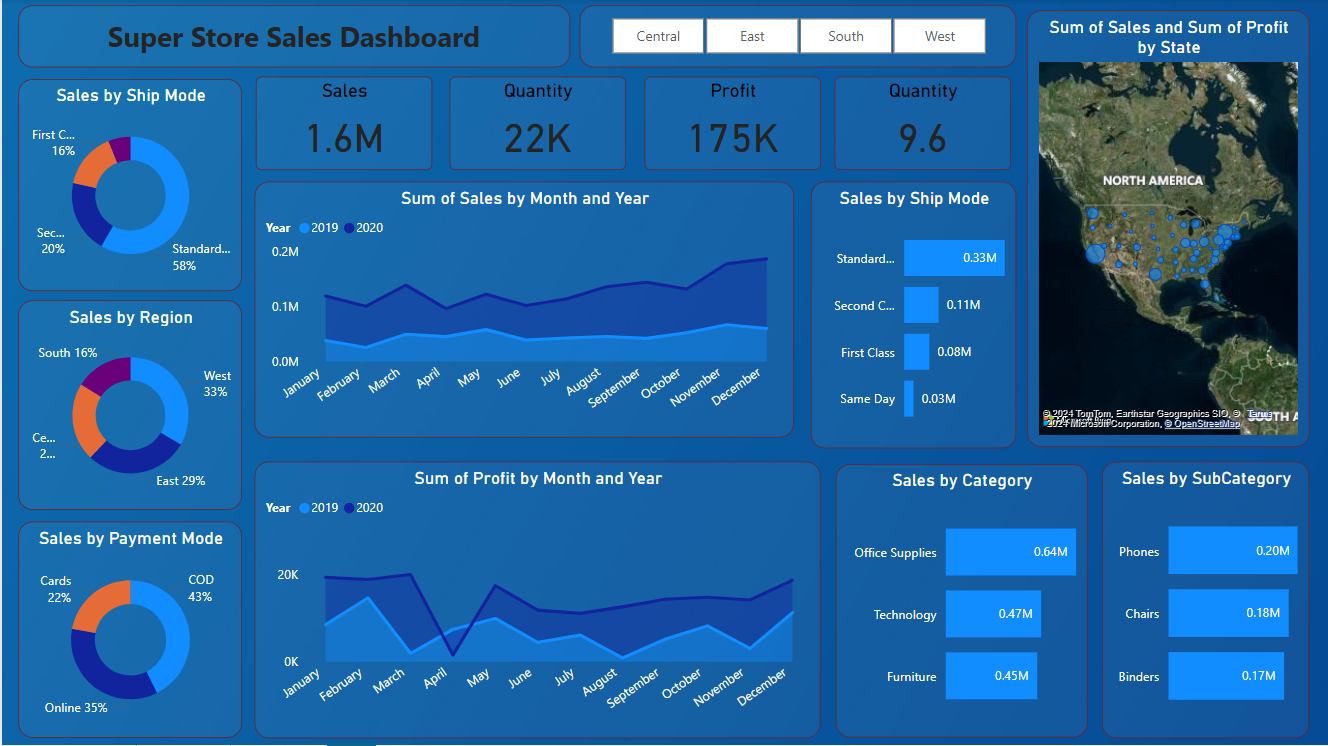

The page's visual inventory and layout, read from the dashboard file:
{"tool":"powerbi","page":{"name":"Page 1","canvas":[1280,720],"ordinal":0},"visuals":[{"type":"clusteredBarChart","title":"Sales by Category","fields":{"Category":["SuperStore_Sales_Dataset.Category"],"Y":["Sum(SuperStore_Sales_Dataset.Sales)"]},"box":[804.3,448.6,242.9,264.3],"z":0},{"type":"clusteredBarChart","title":"Sales by SubCategory","fields":{"Category":["SuperStore_Sales_Dataset.Sub-Category"],"Y":["Sum(SuperStore_Sales_Dataset.Sales)"]},"box":[1062.1,446,200.3,267.6],"z":1},{"type":"clusteredBarChart","title":"Sales by Ship Mode","fields":{"Category":["SuperStore_Sales_Dataset.Ship Mode"],"Y":["Sum(SuperStore_Sales_Dataset.Sales)"]},"box":[780.5,175.6,198.8,257.3],"z":2},{"type":"stackedAreaChart","fields":{"Y":["Sum(SuperStore_Sales_Dataset.Sales)"],"Category":["SuperStore_Sales_Dataset.Order Date.Variation.Date Hierarchy.Month","SuperStore_Sales_Dataset.Order Date.Variation.Date Hierarchy.Day"],"Series":["SuperStore_Sales_Dataset.Order Date.Variation.Date Hierarchy.Year"]},"box":[243.9,175.6,520.7,247.6],"z":3},{"type":"stackedAreaChart","fields":{"Category":["SuperStore_Sales_Dataset.Order Date.Variation.Date Hierarchy.Month","SuperStore_Sales_Dataset.Order Date.Variation.Date Hierarchy.Day"],"Series":["SuperStore_Sales_Dataset.Order Date.Variation.Date Hierarchy.Year"],"Y":["Sum(SuperStore_Sales_Dataset.Profit)"]},"box":[243.9,446.3,546.3,267.1],"z":4},{"type":"map","fields":{"Category":["SuperStore_Sales_Dataset.State"],"Size":["Sum(SuperStore_Sales_Dataset.Sales)"]},"box":[988.8,11.2,272.5,421.2],"z":5},{"type":"donutChart","title":"Sales by Region","fields":{"Y":["Sum(SuperStore_Sales_Dataset.Sales)"],"Category":["SuperStore_Sales_Dataset.Region"]},"box":[16.2,291.2,216.2,202.5],"z":6},{"type":"donutChart","title":"Sales by Payment Mode","fields":{"Y":["Sum(SuperStore_Sales_Dataset.Sales)"],"Category":["SuperStore_Sales_Dataset.Payment Mode"]},"box":[16.2,503.8,216.2,208.8],"z":7},{"type":"donutChart","title":"Sales by Ship Mode","fields":{"Y":["Sum(SuperStore_Sales_Dataset.Sales)"],"Category":["SuperStore_Sales_Dataset.Ship Mode"]},"box":[16.2,77.5,216.2,205],"z":8},{"type":"slicer","fields":{"Values":["SuperStore_Sales_Dataset.Region"]},"box":[557.3,6.1,422,59.8],"z":9},{"type":"textbox","box":[16.2,6.2,532.5,60],"z":10},{"type":"card","title":"Sales","fields":{"Values":["Sum(SuperStore_Sales_Dataset.Sales)"]},"box":[245,75,170,90],"z":11},{"type":"card","title":"Quantity","fields":{"Values":["Sum(SuperStore_Sales_Dataset.Quantity)"]},"box":[432.5,75,170,90],"z":12},{"type":"card","title":"Profit","fields":{"Values":["Sum(SuperStore_Sales_Dataset.Profit)"]},"box":[620,75,170,90],"z":13},{"type":"card","title":"Quantity","fields":{"Values":["Avg(SuperStore_Sales_Dataset.AvgDelivery)"]},"box":[803.8,75,170,90],"z":14}]}

Visuals, with their boxes in screenshot pixels (x1, y1, x2, y2), scaled from the page's 1280x720 canvas onto the 1328x746 screenshot:
"Sales by Category" clusteredBarChart: locate(834, 465, 1086, 739)
"Sales by SubCategory" clusteredBarChart: locate(1102, 462, 1310, 739)
"Sales by Ship Mode" clusteredBarChart: locate(810, 182, 1016, 449)
stackedAreaChart - Sum(SuperStore_Sales_Dataset.Sales) x SuperStore_Sales_Dataset.Order Date.Variation.Date Hierarchy.Month: locate(253, 182, 793, 438)
stackedAreaChart - SuperStore_Sales_Dataset.Order Date.Variation.Date Hierarchy.Month x SuperStore_Sales_Dataset.Order Date.Variation.Date Hierarchy.Day: locate(253, 462, 820, 739)
map - SuperStore_Sales_Dataset.State x Sum(SuperStore_Sales_Dataset.Sales): locate(1026, 12, 1309, 448)
"Sales by Region" donutChart: locate(17, 302, 241, 512)
"Sales by Payment Mode" donutChart: locate(17, 522, 241, 738)
"Sales by Ship Mode" donutChart: locate(17, 80, 241, 293)
slicer - SuperStore_Sales_Dataset.Region: locate(578, 6, 1016, 68)
textbox: locate(17, 6, 569, 69)
"Sales" card: locate(254, 78, 431, 171)
"Quantity" card: locate(449, 78, 625, 171)
"Profit" card: locate(643, 78, 820, 171)
"Quantity" card: locate(834, 78, 1010, 171)
